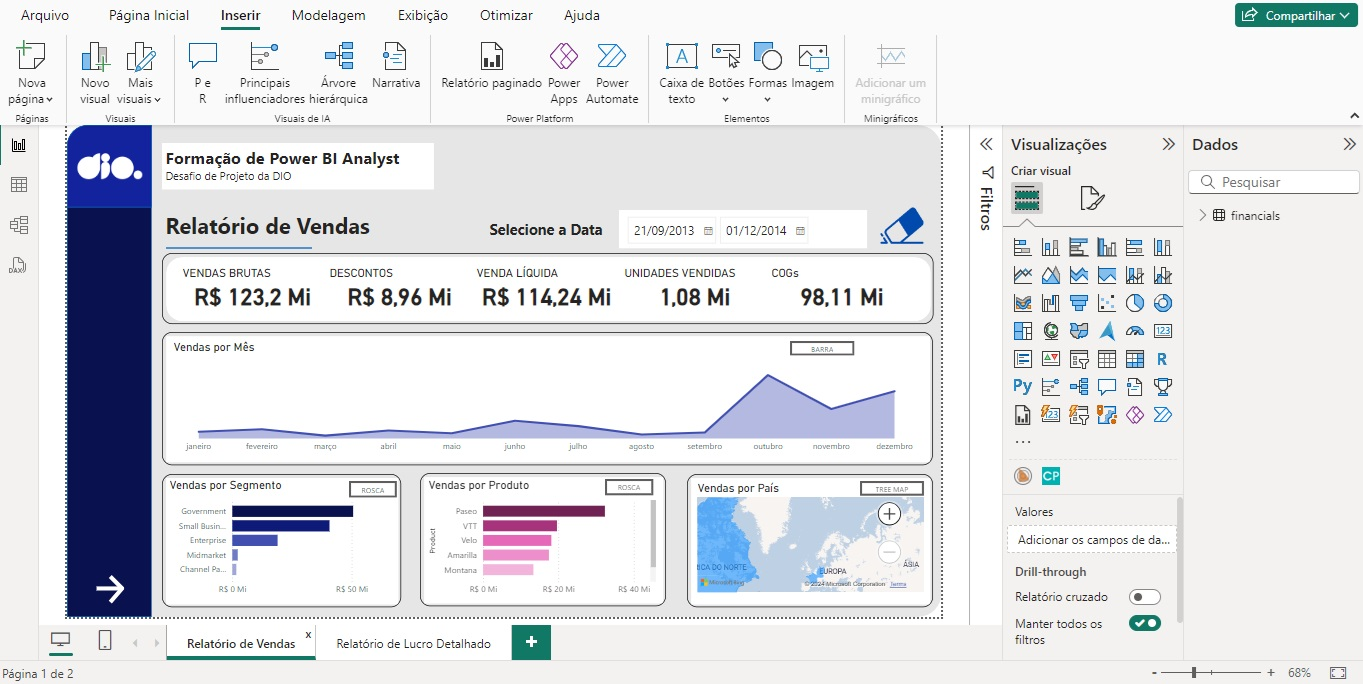

What the dashboard file says about the page in this screenshot:
{"tool":"powerbi","page":{"name":"Relatório de Vendas","canvas":[1280,720],"ordinal":0},"visuals":[{"type":"shape","box":[124,0,1155.5,120.8],"z":0,"group":"g1"},{"type":"slicer","fields":{"Values":["financials.Date"]},"box":[808.5,124.1,363.1,56],"z":0,"group":"g2"},{"type":"card","title":"VENDA LÍQUIDA","fields":{"Values":["Sum(financials. Sales)"]},"box":[594.6,205.9,215.5,65.4],"z":0,"group":"g4"},{"type":"shape","box":[138.5,296.3,1129.3,213.5],"z":0},{"type":"areaChart","title":"Vendas por Mês","fields":{"Category":["financials.Date.Variation.Hierarquia de datas.Mês"],"Y":["Sum(financials. Sales)"]},"box":[152,313.5,1102.4,173.1],"z":0,"group":"g7"},{"type":"clusteredBarChart","title":"Vendas por Segmento","fields":{"Category":["financials.Segment"],"Y":["Sum(financials. Sales)"]},"box":[144.4,516.7,335.7,180.2],"z":0,"group":"g3"},{"type":"clusteredBarChart","title":"Vendas por Produto","fields":{"Category":["financials.Product"],"Y":["Sum(financials. Sales)"]},"box":[524.1,516.9,342.6,180.8],"z":0,"group":"g6"},{"type":"filledMap","title":"Vendas por País","fields":{"Category":["financials.Country"]},"box":[917.5,521.4,341.2,168.1],"z":0,"group":"g5"},{"type":"group","id":"g1","title":"BASE","box":[0,0,1279.5,720],"z":1000},{"type":"shape","box":[823.3,185.4,215,106.7],"z":1000,"group":"g1"},{"type":"card","title":"DESCONTOS","fields":{"Values":["Sum(financials.Discounts)"]},"box":[379.2,205.9,215.5,65.4],"z":1000,"group":"g4"},{"type":"actionButton","title":"Barra","box":[1059.4,315.9,94.3,21.4],"z":1500,"group":"g7"},{"type":"shape","title":"Plano de Fundo","box":[9.5,0,1269.9,720],"z":2000,"group":"g1"},{"type":"group","id":"g2","title":"Filtro com data","box":[613.2,124.1,558.4,56],"z":2000},{"type":"card","title":"UNIDADES VENDIDAS","fields":{"Values":["Sum(financials.Units Sold)"]},"box":[810.1,205.9,215.5,65.4],"z":2000,"group":"g4"},{"type":"actionButton","title":"Botão - Rosca","box":[787.8,518.1,70.7,23.8],"z":2000,"group":"g6"},{"type":"actionButton","box":[411.6,521.1,70,24.3],"z":2000,"group":"g3"},{"type":"actionButton","title":"Botão - TM","box":[1160,521.4,93.6,21.5],"z":2000,"group":"g5"},{"type":"shape","title":"Barra Lateral","box":[0,0,124,720],"z":3000,"group":"g1"},{"type":"textbox","box":[613.2,133.2,187.6,42.4],"z":3000,"group":"g2"},{"type":"card","title":"VENDAS BRUTAS","fields":{"Values":["Sum(financials.Gross Sales)"]},"box":[163.7,205.9,215.5,65.4],"z":3000,"group":"g4"},{"type":"group","id":"g3","title":"Sales e Segment","box":[144.4,516.7,342.2,181.1],"z":3000},{"type":"shape","title":"Porta Logo","box":[0,0,124,120.8],"z":4000,"group":"g1"},{"type":"shape","box":[138.5,186.6,1129.3,103.9],"z":4000},{"type":"card","title":"COGs","fields":{"Values":["Sum(financials.COGS)"]},"box":[1025.6,205.9,215.5,65.4],"z":4000,"group":"g4"},{"type":"group","id":"g4","title":"Macro Indicadores","box":[163.7,205.9,1077.4,65.4],"z":5000},{"type":"textbox","box":[138.3,26.7,398.3,68.3],"z":6000,"group":"g1"},{"type":"group","id":"g5","title":"Sales por Country","box":[917.1,521.4,341.6,181],"z":6000},{"type":"shape","title":"Base gráico meio","box":[138.3,303.3,1128.3,195],"z":7000,"group":"g1"},{"type":"group","id":"g6","title":"Vendas por Produto","box":[524.1,516.8,342.9,181.4],"z":7000},{"type":"group","id":"g7","title":"Vendas Por Mês","box":[151.4,312.7,1102.9,174],"z":8000},{"type":"shape","title":"Base de gráfico baixo","box":[138.3,510,350,195],"z":8000,"group":"g1"},{"type":"shape","title":"Linha","box":[144.9,168.3,213.7,23.4],"z":9000,"group":"g1"},{"type":"actionButton","box":[36.6,654.8,50.9,50.9],"z":9000},{"type":"image","box":[10.2,7.3,105.4,106.8],"z":10000},{"type":"shape","box":[906.7,510,360,195],"z":10000,"group":"g1"},{"type":"image","box":[1185.4,106.8,73.2,80.5],"z":11000},{"type":"shape","box":[516,509.6,360,195],"z":11000,"group":"g1"},{"type":"textbox","title":"Sales Report","box":[138.8,120.2,323.5,53],"z":12000,"group":"g1"}]}

Visuals, with their boxes on the page's 1280x720 design canvas (x1, y1, x2, y2). These are canvas units, not pixel positions in the 1363x684 screenshot, which may show the page scaled, cropped or inside an application window:
shape: (x1=124, y1=0, x2=1280, y2=121)
slicer - financials.Date: (x1=808, y1=124, x2=1172, y2=180)
"VENDA LÍQUIDA" card: (x1=595, y1=206, x2=810, y2=271)
shape: (x1=138, y1=296, x2=1268, y2=510)
"Vendas por Mês" areaChart: (x1=152, y1=314, x2=1254, y2=487)
"Vendas por Segmento" clusteredBarChart: (x1=144, y1=517, x2=480, y2=697)
"Vendas por Produto" clusteredBarChart: (x1=524, y1=517, x2=867, y2=698)
"Vendas por País" filledMap: (x1=918, y1=521, x2=1259, y2=690)
"BASE" group: (x1=0, y1=0, x2=1280, y2=720)
shape: (x1=823, y1=185, x2=1038, y2=292)
"DESCONTOS" card: (x1=379, y1=206, x2=595, y2=271)
"Barra" actionButton: (x1=1059, y1=316, x2=1154, y2=337)
"Plano de Fundo" shape: (x1=10, y1=0, x2=1279, y2=720)
"Filtro com data" group: (x1=613, y1=124, x2=1172, y2=180)
"UNIDADES VENDIDAS" card: (x1=810, y1=206, x2=1026, y2=271)
"Botão - Rosca" actionButton: (x1=788, y1=518, x2=858, y2=542)
actionButton: (x1=412, y1=521, x2=482, y2=545)
"Botão - TM" actionButton: (x1=1160, y1=521, x2=1254, y2=543)
"Barra Lateral" shape: (x1=0, y1=0, x2=124, y2=720)
textbox: (x1=613, y1=133, x2=801, y2=176)
"VENDAS BRUTAS" card: (x1=164, y1=206, x2=379, y2=271)
"Sales e Segment" group: (x1=144, y1=517, x2=487, y2=698)
"Porta Logo" shape: (x1=0, y1=0, x2=124, y2=121)
shape: (x1=138, y1=187, x2=1268, y2=290)
"COGs" card: (x1=1026, y1=206, x2=1241, y2=271)
"Macro Indicadores" group: (x1=164, y1=206, x2=1241, y2=271)
textbox: (x1=138, y1=27, x2=537, y2=95)
"Sales por Country" group: (x1=917, y1=521, x2=1259, y2=702)
"Base gráico meio" shape: (x1=138, y1=303, x2=1267, y2=498)
"Vendas por Produto" group: (x1=524, y1=517, x2=867, y2=698)
"Vendas Por Mês" group: (x1=151, y1=313, x2=1254, y2=487)
"Base de gráfico baixo" shape: (x1=138, y1=510, x2=488, y2=705)
"Linha" shape: (x1=145, y1=168, x2=359, y2=192)
actionButton: (x1=37, y1=655, x2=88, y2=706)
image: (x1=10, y1=7, x2=116, y2=114)
shape: (x1=907, y1=510, x2=1267, y2=705)
image: (x1=1185, y1=107, x2=1259, y2=187)
shape: (x1=516, y1=510, x2=876, y2=705)
"Sales Report" textbox: (x1=139, y1=120, x2=462, y2=173)
